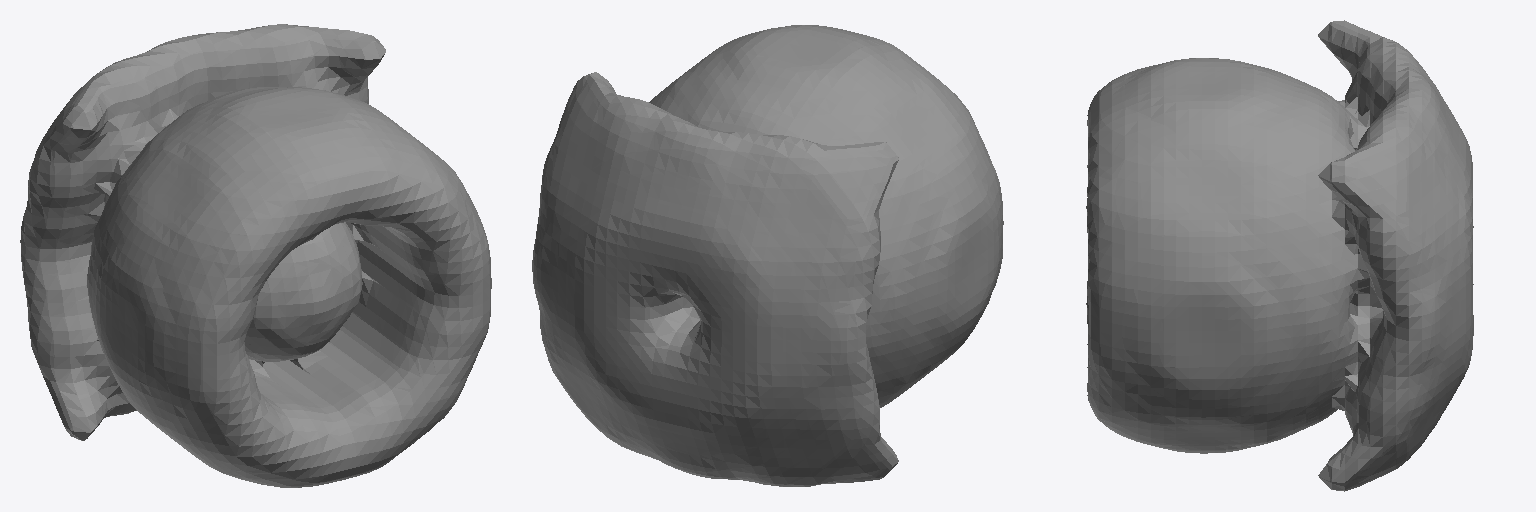
URDF robot description (cube.urdf):
<?xml version="0.0" ?> 
<robot name="cube.urdf"> 
<link name="legobrick"> 
<contact> 
<lateral_friction value="5.0"/> 
<rolling_friction value="0.0"/> 
<contact_cfm value="0.0"/> 
<contact_erp value="1.0"/> 
</contact> 
<inertial> 
<origin rpy="0 0 0" xyz="0.0 0.0 0.0"/> 
<mass value=".01"/> 
<inertia ixx="1" ixy="0" ixz="0" iyy="1" iyz="0" izz="1"/> 
</inertial> 
<visual> 
<origin rpy="1.570796 0 0" xyz="-0.02586022337039652 0.02592688135163901 -0.02585589588531601"/> 
<geometry> 
<mesh filename="E13_3.obj" scale="0.0006999973547099967 0.0006999973547099967 0.0006999973547099967"/> 
</geometry> 
<material name="yellow"> 
<color rgba="0.6 0.6 0.6 1"/> 
</material> 
</visual> 
<collision> 
<origin rpy="1.570796 0 0" xyz="-0.02586022337039652 0.02592688135163901 -0.02585589588531601"/> 
<geometry> 
<mesh filename="E13_3.obj" scale="0.0006999973547099967 0.0006999973547099967 0.0006999973547099967"/> 
</geometry> 
</collision> 
</link> 
</robot>

--- What the picture shows (computed from the rendered views, not written in the file) ---
3 views of the same robot in one strip: view 1: azimuth 30°, elevation 25°; view 2: azimuth 150°, elevation 25°; view 3: azimuth 270°, elevation 25° (orthographic).
Model cube.urdf with 1 links and 0 joints (none), rooted at legobrick, posed all joints at 0.
Visible links, largest first — view 1: legobrick; view 2: legobrick; view 3: legobrick.
Boxes of the visible links, bbox=[...] form: legobrick: bbox=[20, 24, 491, 487]; legobrick: bbox=[532, 25, 1003, 486]; legobrick: bbox=[1086, 20, 1473, 491].
Bounding box of the posed robot: 0.056 × 0.056 × 0.056 m (x, y, z).
1 mesh visuals loaded from 1 distinct referenced files (1 OBJ).
